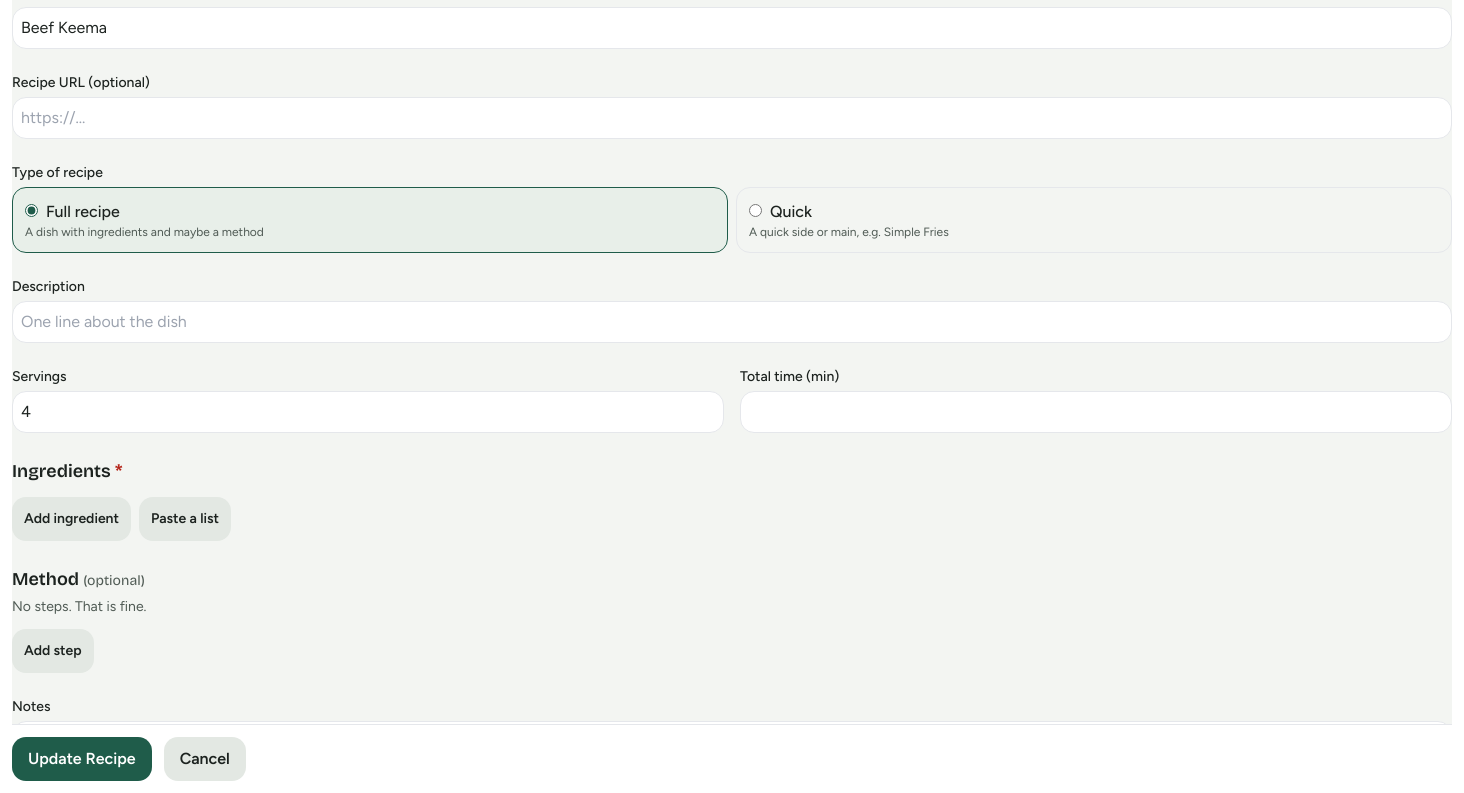
Test: RecipeEditor › needs at least one ingredient and has no required method
The width and height of the screenshot is (1464, 793).
Expected: the text "No steps. That is fine." is shown, left=12, top=598, right=146, bottom=615
Click the button "Update Recipe" at (82, 759), box left=12, top=737, right=152, bottom=781
(page scrolled)
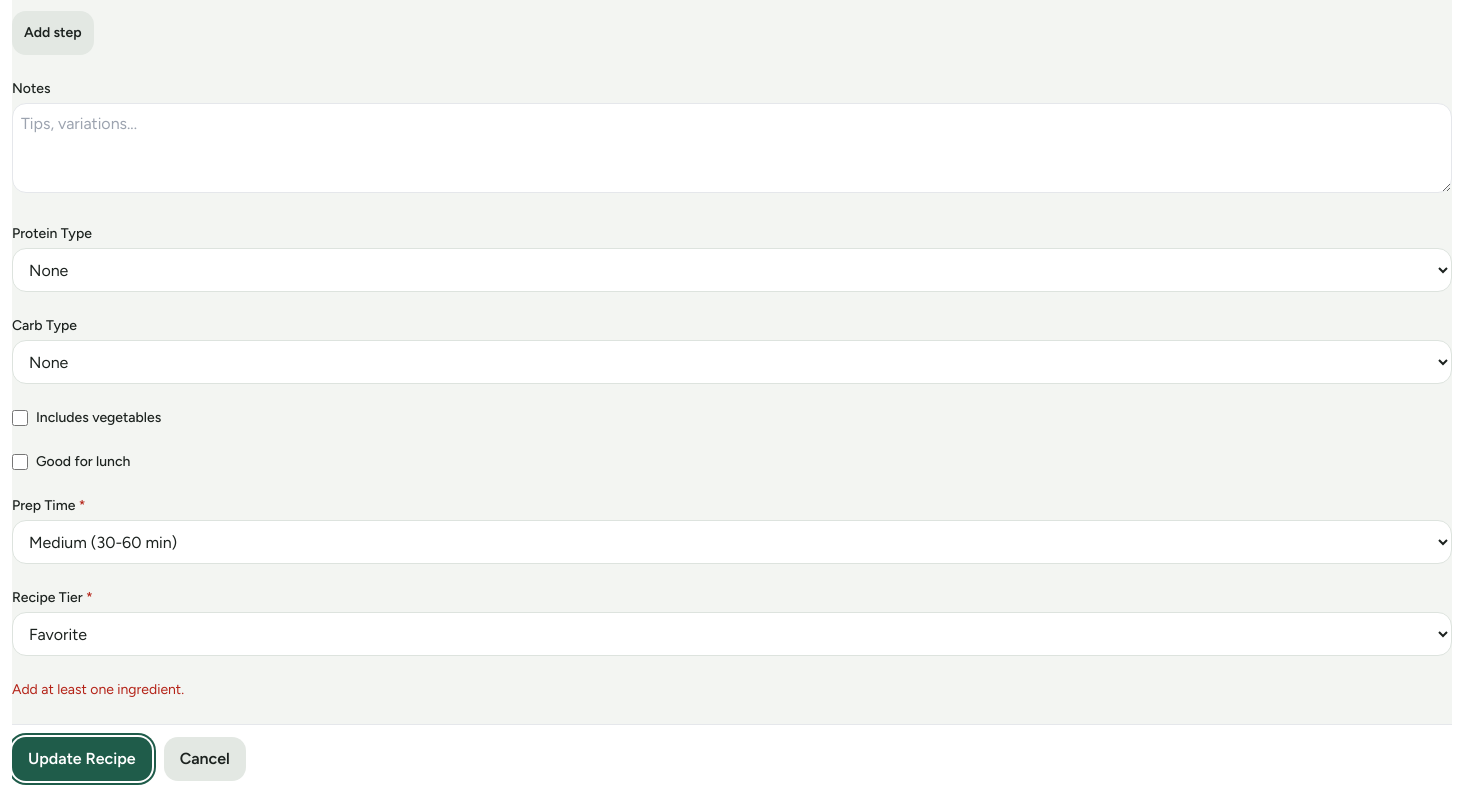
Expected: the message shows "at least one ingredient", left=12, top=681, right=184, bottom=698
